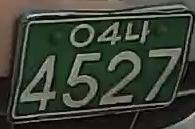0: (69, 23, 95, 48)
2: (100, 50, 143, 104)
4: (24, 55, 59, 110), (96, 21, 123, 47)
5: (62, 51, 100, 108)
7: (143, 47, 180, 101)
나: (124, 20, 154, 45)
